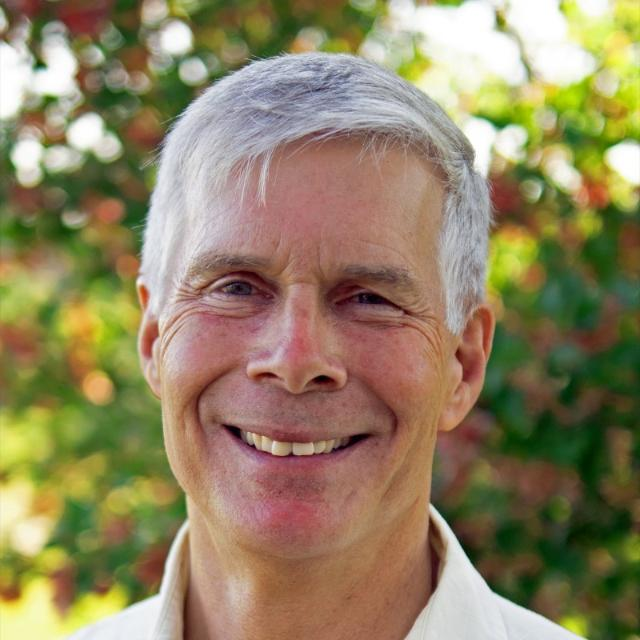crows_feet: (170, 275, 202, 321), (397, 299, 433, 331)
frown_line: (270, 242, 296, 282), (312, 244, 331, 280)
gummy_smile: (187, 360, 237, 412), (368, 385, 408, 439)
